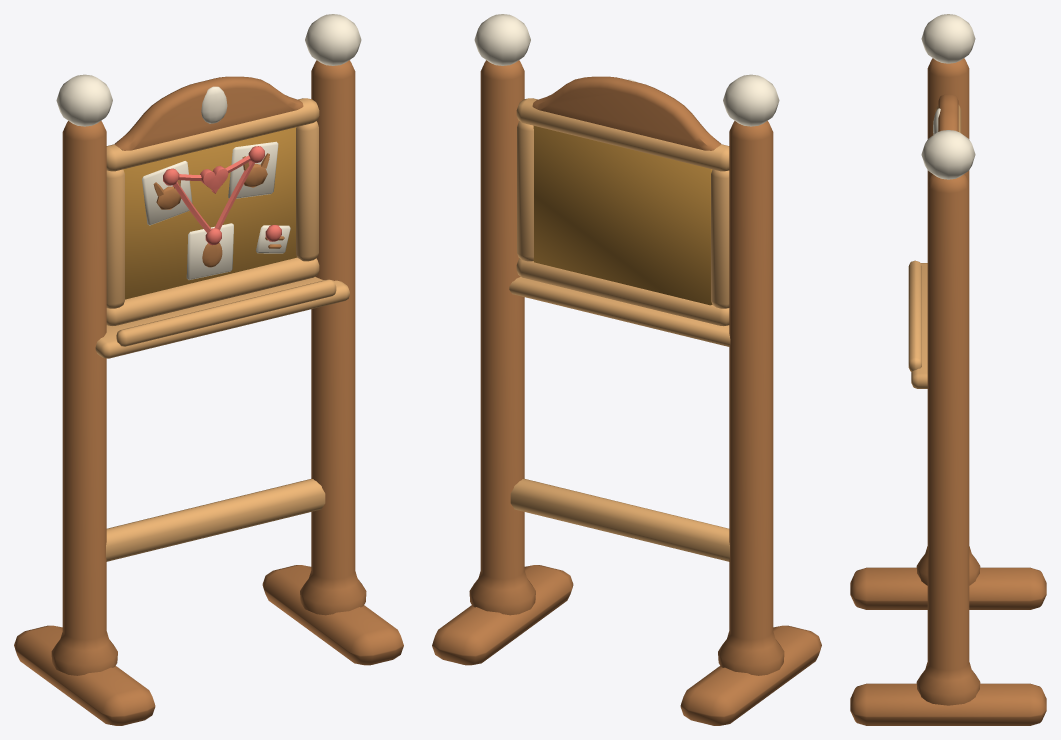
Rendered from ShopCorkBoard.fbx.
3 renders of one model, left to right at view 1: azimuth 30°, elevation 25°; view 2: azimuth 150°, elevation 25°; view 3: azimuth 270°, elevation 25°, orthographic. The views are drawn at different scales.
Visible parts, largest first — view 1: ShopCorkBoard; view 2: ShopCorkBoard; view 3: ShopCorkBoard.
Boxes of the visible parts, x1=… form: ShopCorkBoard: x1=14, y1=14, x2=403, y2=725; ShopCorkBoard: x1=432, y1=14, x2=821, y2=725; ShopCorkBoard: x1=850, y1=14, x2=1046, y2=725.
Size of the model in its own units: 0.998 by 1.91 by 0.58.
